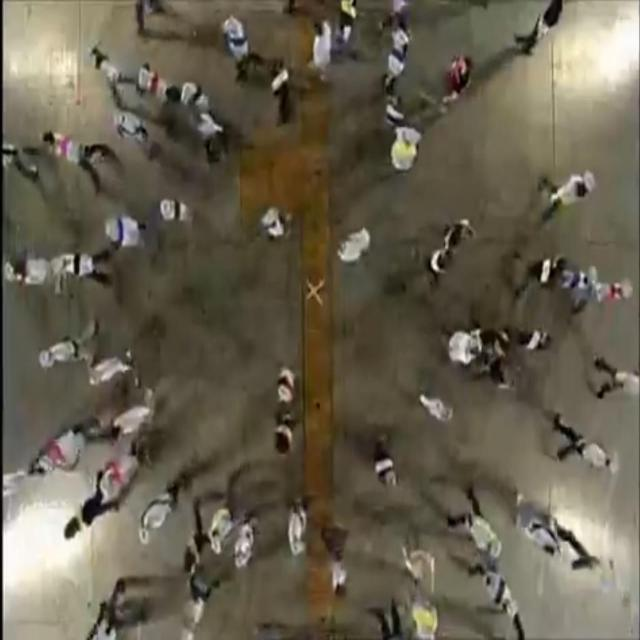humans: (518, 492, 604, 586), (441, 481, 509, 559), (554, 406, 620, 484), (42, 125, 113, 194), (434, 316, 512, 375), (23, 419, 95, 479), (137, 469, 185, 550), (533, 169, 598, 228), (269, 360, 306, 463), (217, 7, 257, 85), (34, 328, 100, 374), (266, 49, 303, 129), (63, 497, 119, 549), (590, 346, 640, 404), (88, 39, 132, 104), (322, 519, 354, 604), (95, 402, 161, 443), (180, 496, 212, 580), (109, 90, 152, 152), (305, 15, 337, 96), (418, 241, 464, 292), (440, 44, 473, 114), (375, 72, 416, 128), (3, 248, 54, 292), (529, 246, 575, 294), (334, 220, 375, 273), (102, 211, 150, 255), (387, 11, 414, 87), (259, 198, 299, 249), (160, 83, 220, 116), (370, 431, 399, 498), (286, 494, 314, 556), (234, 509, 258, 577), (152, 190, 196, 227), (503, 324, 555, 354), (442, 214, 478, 254), (209, 501, 233, 558)
